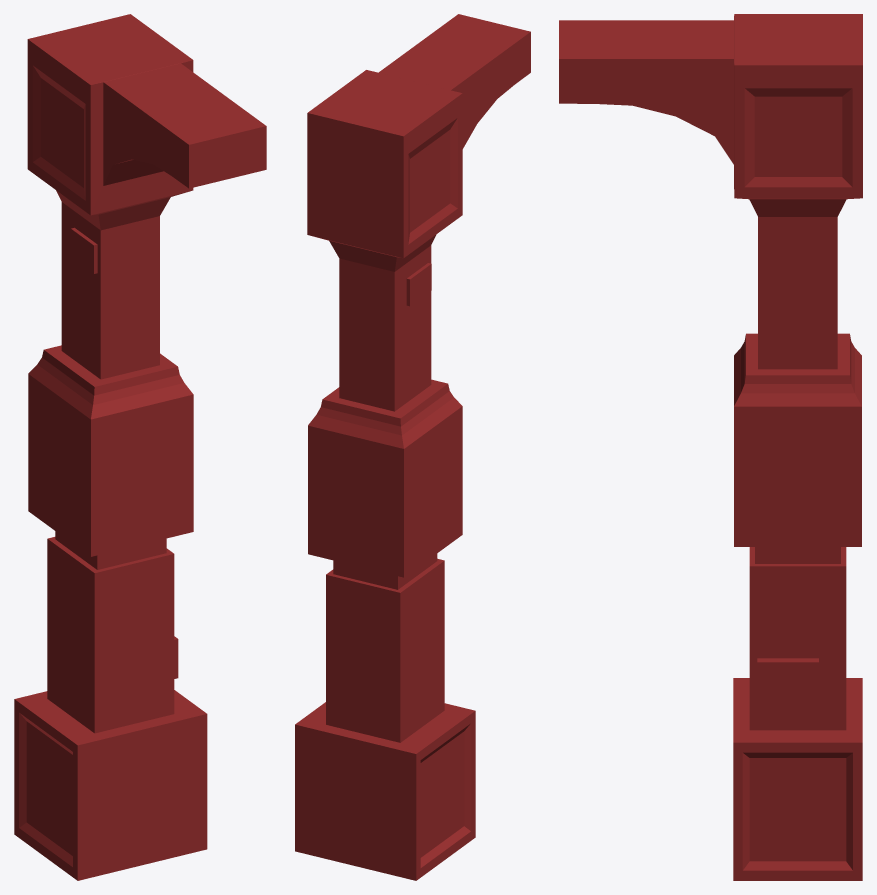
Rendered from SM_C_Pilar_01.fbx.
The picture shows the model from 3 angles, left to right: view 1: azimuth 30°, elevation 25°; view 2: azimuth 150°, elevation 25°; view 3: azimuth 270°, elevation 25°; orthographic projection. The views are drawn at different scales.
Visible parts, largest first — view 1: SM_C_Pilar_01; view 2: SM_C_Pilar_01; view 3: SM_C_Pilar_01.
Boxes of the visible parts, x1=… form: SM_C_Pilar_01: x1=14, y1=14, x2=266, y2=880; SM_C_Pilar_01: x1=295, y1=14, x2=530, y2=880; SM_C_Pilar_01: x1=559, y1=14, x2=862, y2=880.
Bounding box in the file's own units: 200 × 1169 × 398.
